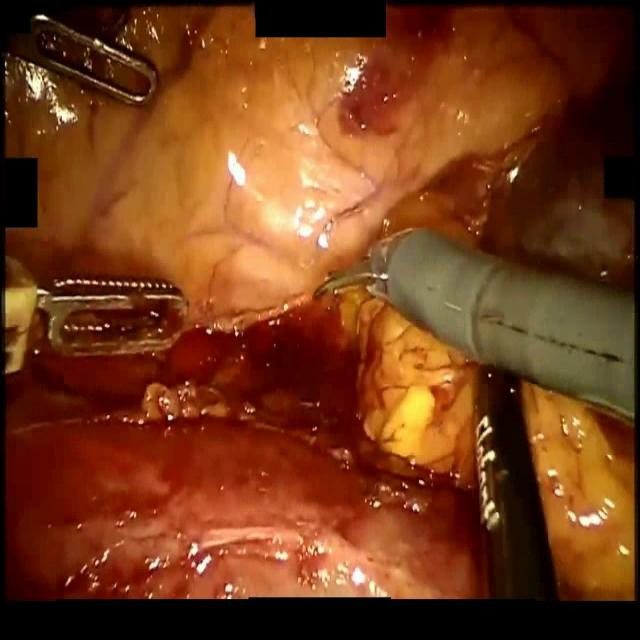surgical-area: (1, 0, 636, 604)
surgical-tool: (314, 225, 636, 426), (472, 361, 562, 601), (1, 276, 189, 359), (4, 13, 158, 108)
